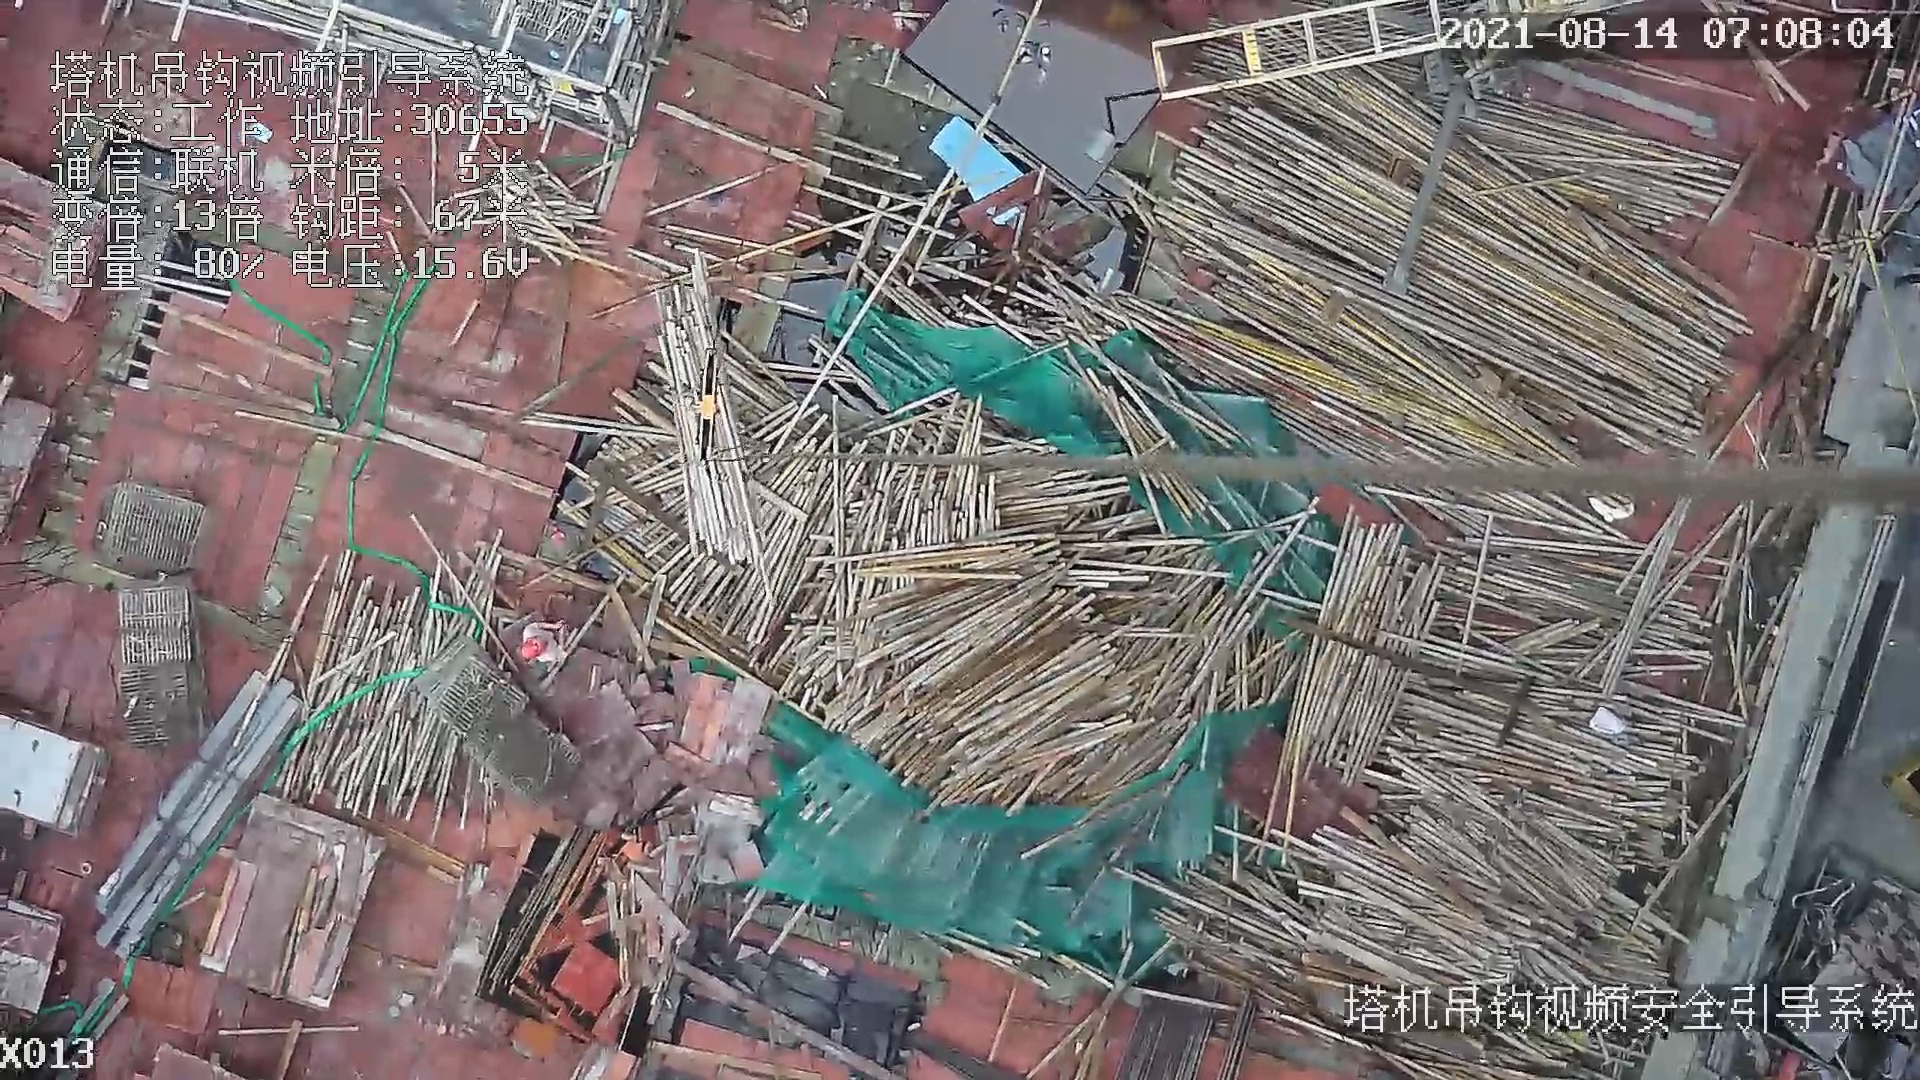helmet: (521, 639, 541, 661)
hook: (685, 335, 726, 471)
person: (520, 621, 570, 670)
